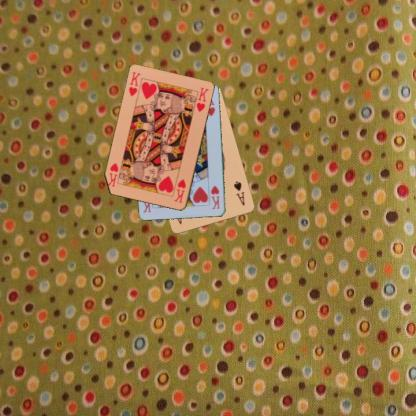As: (231, 178, 246, 207)
Kh: (126, 69, 142, 98), (172, 177, 187, 204), (208, 183, 221, 210)
